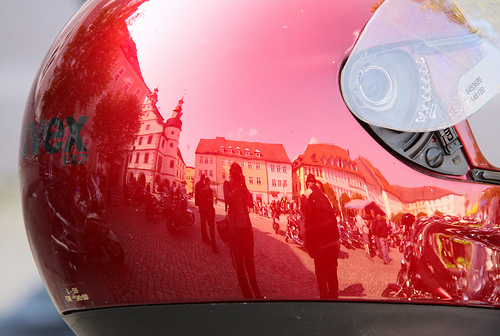helmet: (30, 3, 487, 320)
